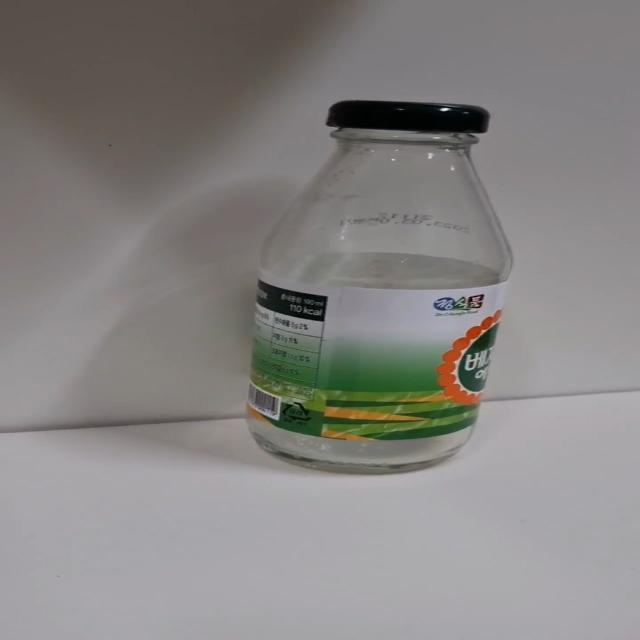Glass: (244, 100, 515, 479)
